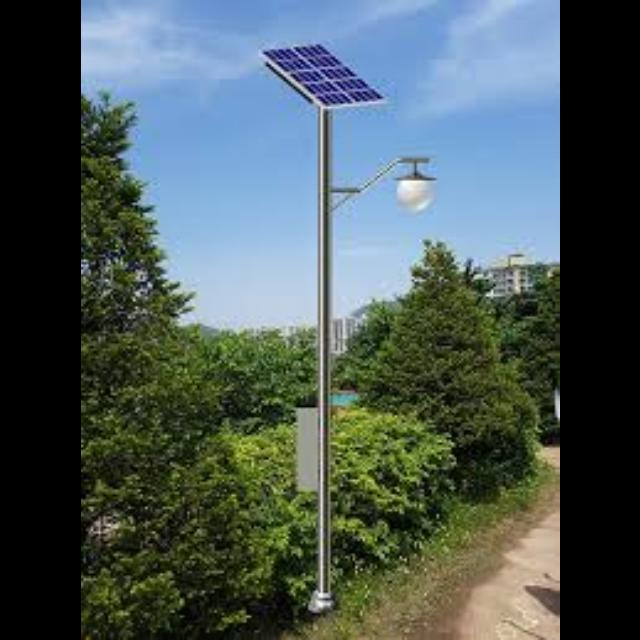Street-Lamp: (263, 28, 441, 616)
